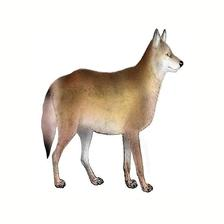WOLF: (40, 26, 185, 192)
